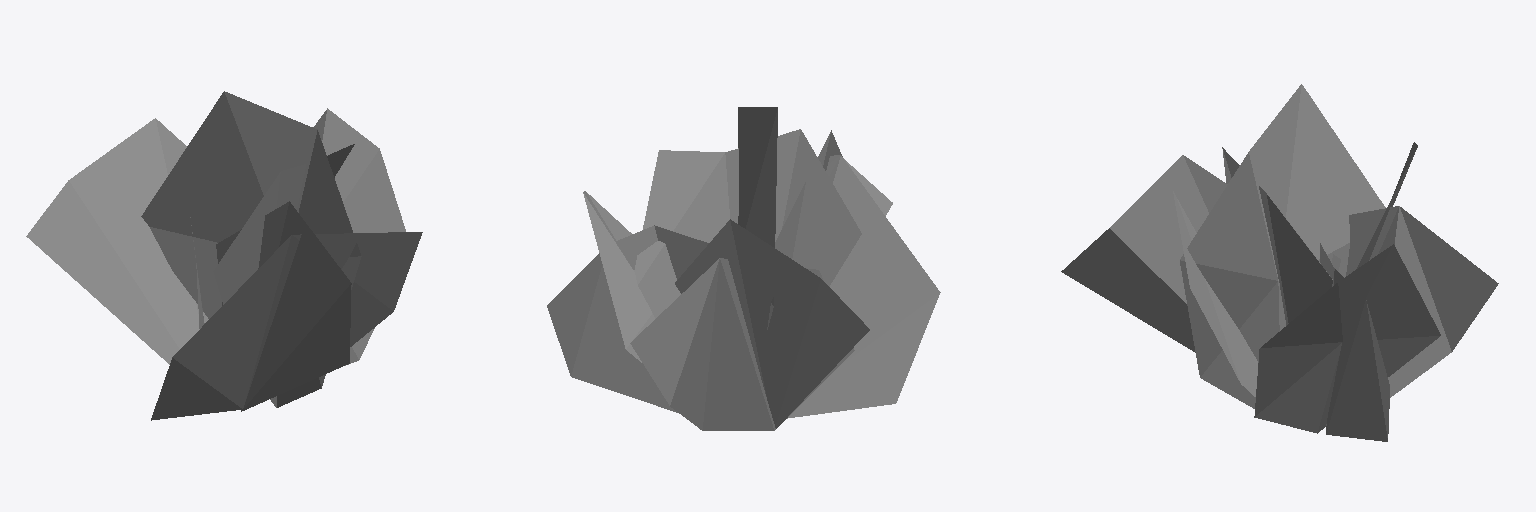
The model's file is groundShrubs_b.obj.
The picture shows the model from 3 angles: view 1: azimuth 30°, elevation 25°; view 2: azimuth 150°, elevation 25°; view 3: azimuth 270°, elevation 25°; orthographic projection.
Parts seen in each view (by area): view 1: shrubsb; view 2: shrubsb; view 3: shrubsb.
Boxes of the visible parts, <box> form: shrubsb: <box>26,91,422,420</box>; shrubsb: <box>547,107,940,430</box>; shrubsb: <box>1061,84,1498,441</box>.
Size of the model in its own units: 1.09 by 1.01 by 1.24.